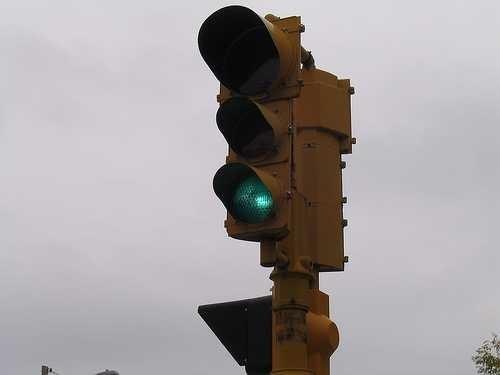green: (194, 7, 300, 241), (210, 159, 287, 233)
